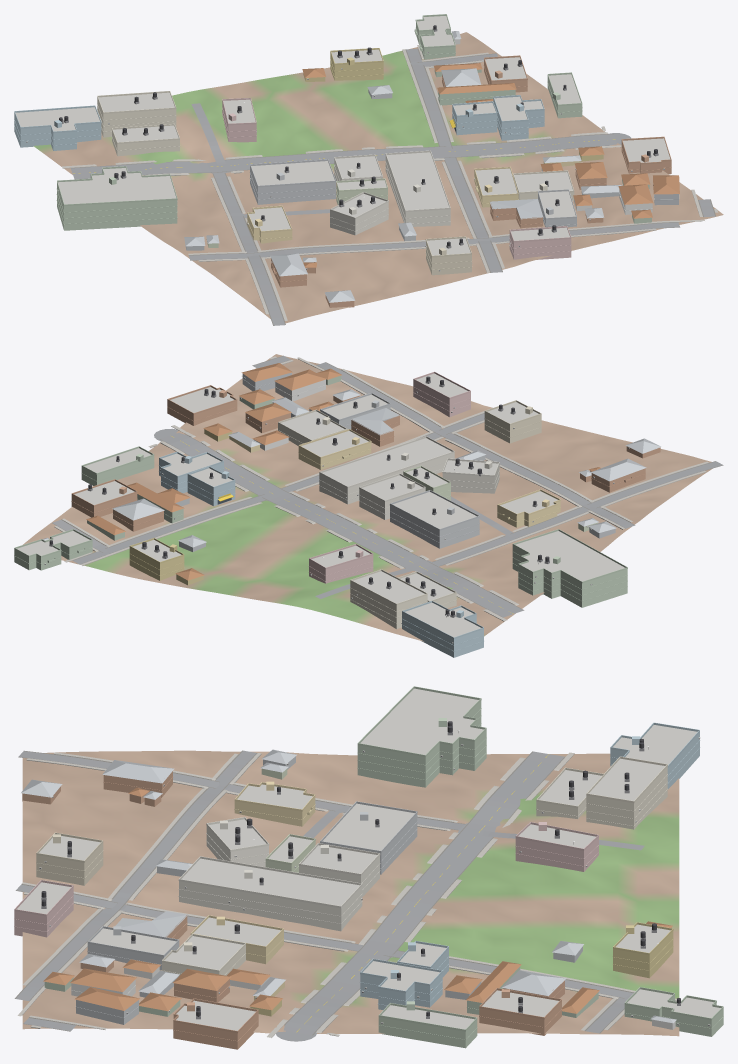
3 renders of one model, top to bottom at view 1: azimuth 30°, elevation 25°; view 2: azimuth 150°, elevation 25°; view 3: azimuth 270°, elevation 25°, orthographic. The views are drawn at different scales.
Visible parts, largest first — view 1: Buildings-col, Terrain-col, Roads-col, Details, Sidewalks-col; view 2: Buildings-col, Terrain-col, Roads-col, Details, Sidewalks-col; view 3: Buildings-col, Terrain-col, Roads-col, Details, Sidewalks-col.
Boxes of the visible parts, <box> form: Buildings-col: <box>14,16,679,307</box>; Terrain-col: <box>33,32,723,323</box>; Roads-col: <box>70,48,715,325</box>; Details: <box>14,14,679,282</box>; Sidewalks-col: <box>62,45,718,320</box>; Buildings-col: <box>14,363,661,657</box>; Terrain-col: <box>23,354,712,641</box>; Roads-col: <box>52,355,723,617</box>; Details: <box>14,371,645,651</box>; Sidewalks-col: <box>54,356,708,621</box>; Buildings-col: <box>14,688,723,1049</box>; Terrain-col: <box>22,750,679,1036</box>; Roads-col: <box>14,750,676,1041</box>; Details: <box>14,686,723,1041</box>; Sidewalks-col: <box>17,752,676,1037</box>.
Size of the model in its own units: 305 by 21.62 by 277.
